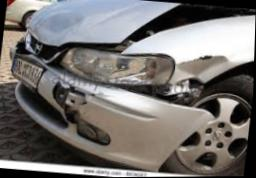Bonnet: (28, 0, 256, 48)
Bumper: (45, 77, 216, 171), (6, 32, 64, 143)
Fender: (131, 13, 256, 84)
